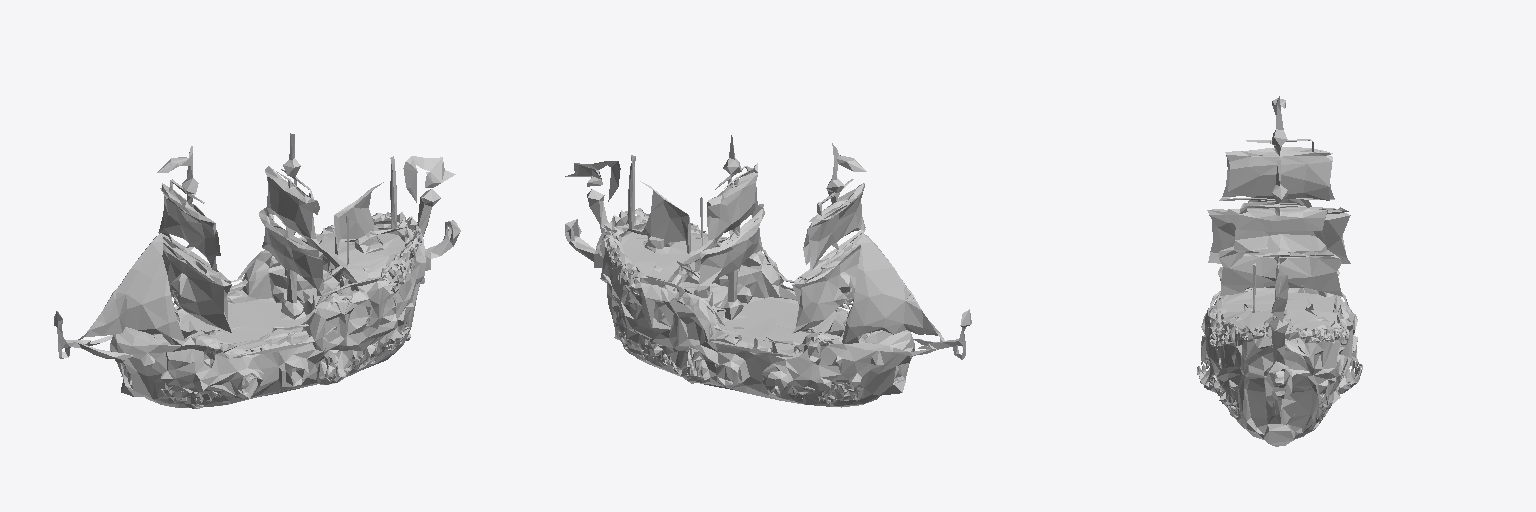
Rendered from solar_punk_pirate_shi_0617201936_texture.obj.
3 renders of one model, left to right at view 1: azimuth 30°, elevation 25°; view 2: azimuth 150°, elevation 25°; view 3: azimuth 270°, elevation 25°, orthographic.
Parts seen in each view (by area): view 1: solar_punk_pirate_shi_[number redacted]_texture; view 2: solar_punk_pirate_shi_[number redacted]_texture; view 3: solar_punk_pirate_shi_[number redacted]_texture.
Part boxes in pixels (x1,y1,x2,y2): solar_punk_pirate_shi_[number redacted]_texture: (54, 133, 460, 408); solar_punk_pirate_shi_[number redacted]_texture: (565, 135, 971, 407); solar_punk_pirate_shi_[number redacted]_texture: (1197, 96, 1362, 446).
Size of the model in its own units: 1.98 by 1.21 by 0.7056.